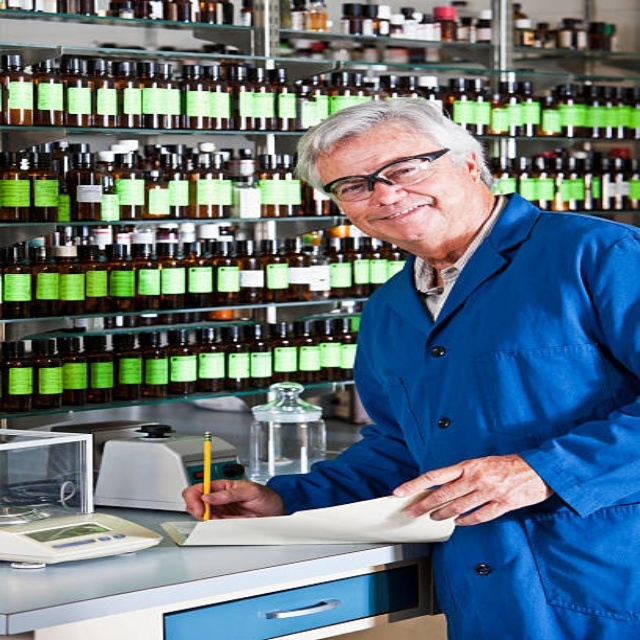Gafas: (315, 147, 449, 205)
Sin_guantes: (389, 451, 547, 524), (180, 477, 281, 519)
Sin_mascara: (365, 201, 439, 237)
